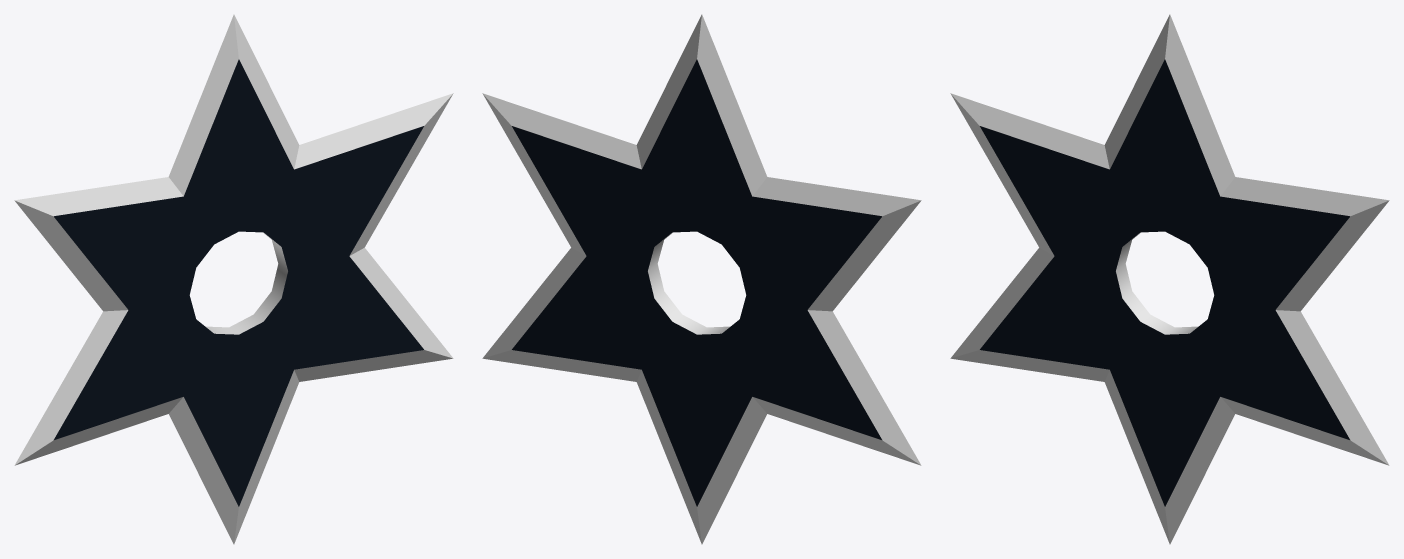
The model's file is scene_X0Zuu4YxYb.glb.
The picture shows the model from 3 angles, left to right: view 1: azimuth 30°, elevation 25°; view 2: azimuth 150°, elevation 25°; view 3: azimuth 330°, elevation 25°; orthographic projection.
Parts seen in each view (by area): view 1: Shuriken_15; view 2: Shuriken_15; view 3: Shuriken_15.
Part boxes in pixels (x1,y1,x2,y2): Shuriken_15: [14, 14, 453, 544]; Shuriken_15: [482, 14, 921, 544]; Shuriken_15: [950, 14, 1389, 544].
Bounding box in the file's own units: 1.73 × 2 × 0.0676.
